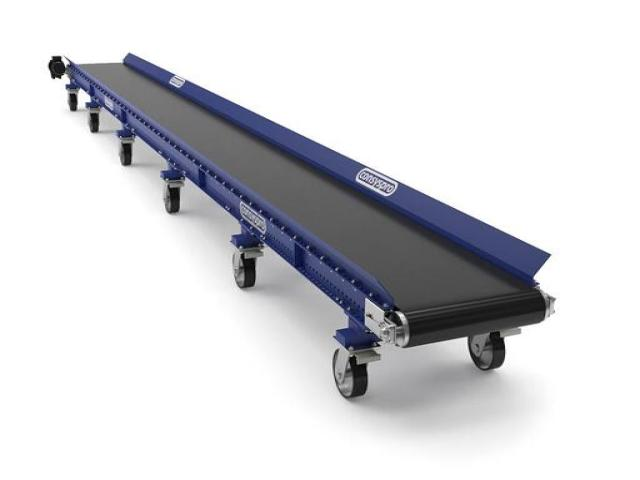conveyor: (45, 50, 557, 399)
